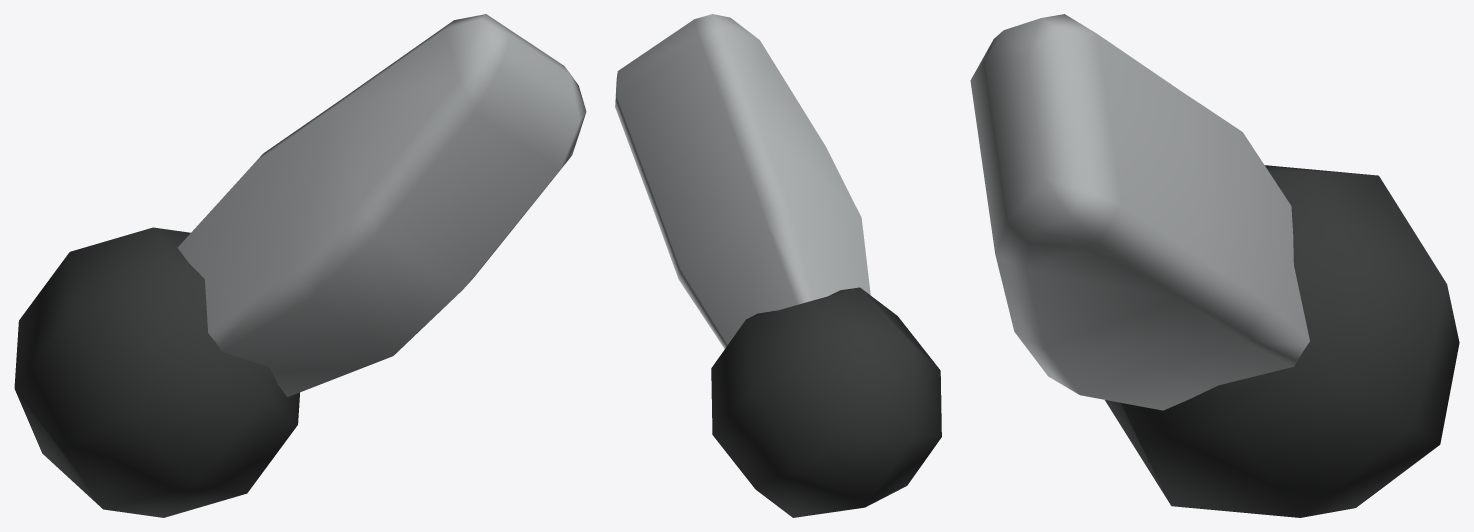
The model's file is Drone_002_L_Finger_004.fbx.
3 renders of one model, left to right at view 1: azimuth 30°, elevation 25°; view 2: azimuth 150°, elevation 25°; view 3: azimuth 270°, elevation 25°, orthographic. The views are drawn at different scales.
Visible parts, largest first — view 1: Drone_002_L_Finger_004; view 2: Drone_002_L_Finger_004; view 3: Drone_002_L_Finger_004.
Part boxes in pixels (x1=…): Drone_002_L_Finger_004: x1=14, y1=14, x2=586, y2=517; Drone_002_L_Finger_004: x1=615, y1=14, x2=941, y2=517; Drone_002_L_Finger_004: x1=970, y1=14, x2=1459, y2=517.
Size of the model in its own units: 4.94 by 3.45 by 5.
